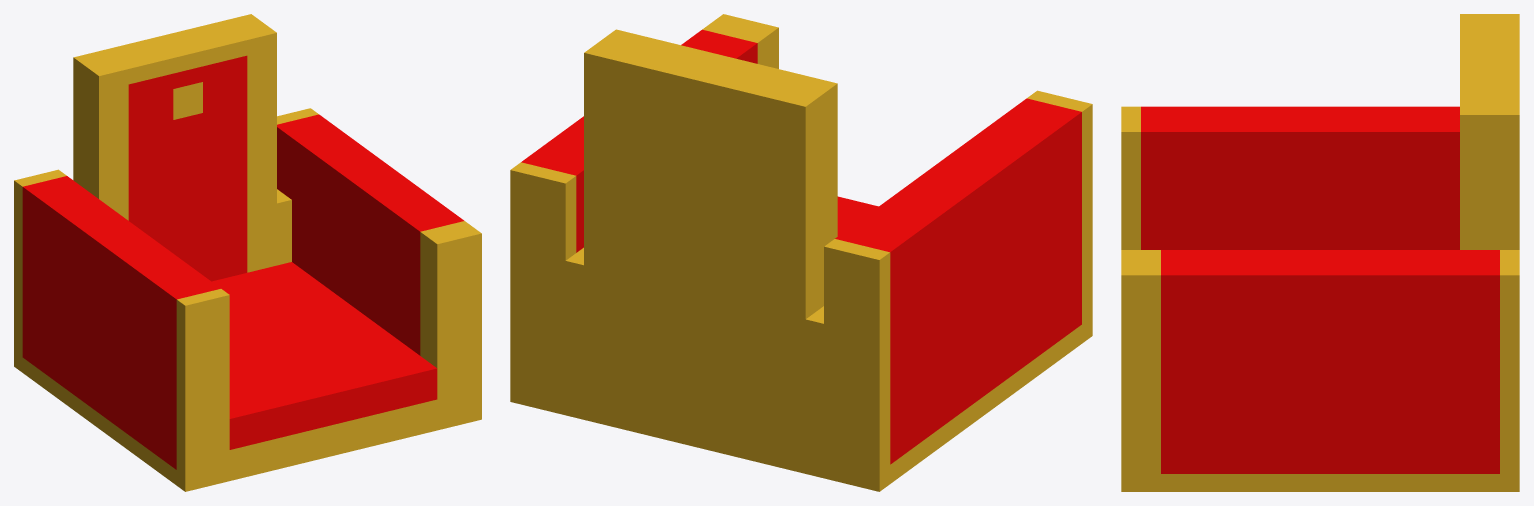
The model's file is throne.obj.
The picture shows the model from 3 angles, left to right: view 1: azimuth 30°, elevation 25°; view 2: azimuth 150°, elevation 25°; view 3: azimuth 270°, elevation 25°; orthographic projection. The views are drawn at different scales.
Size of the model in its own units: 2 by 1.9 by 2.
1 material, 1 textured.
